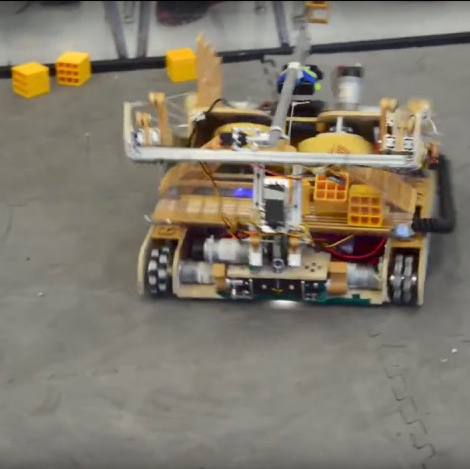robot: (114, 0, 461, 311)
